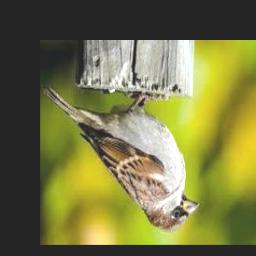Sparrow: (43, 88, 199, 232)
